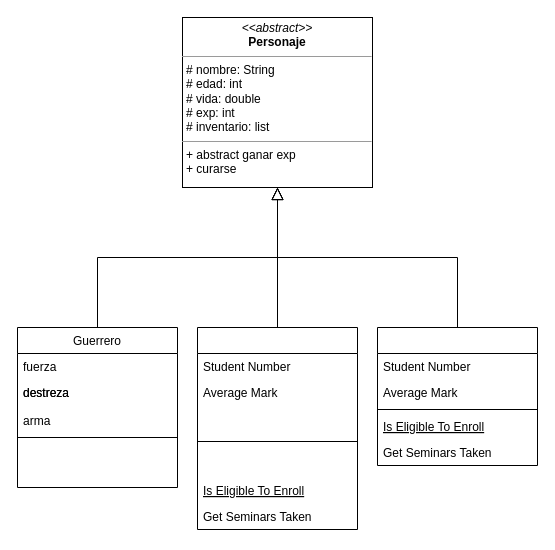
This 555x550 diagram has some shape labels left out. Each missing label, with the box of its shape:
Arquero: (376, 326, 538, 466)
Mago: (196, 326, 358, 530)
